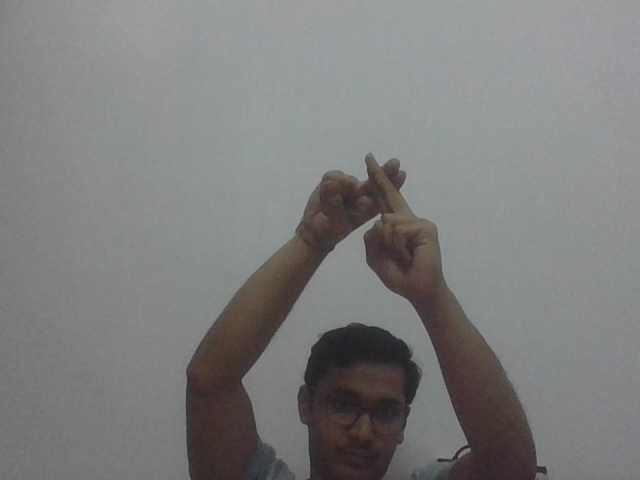F: (307, 148, 455, 295)
